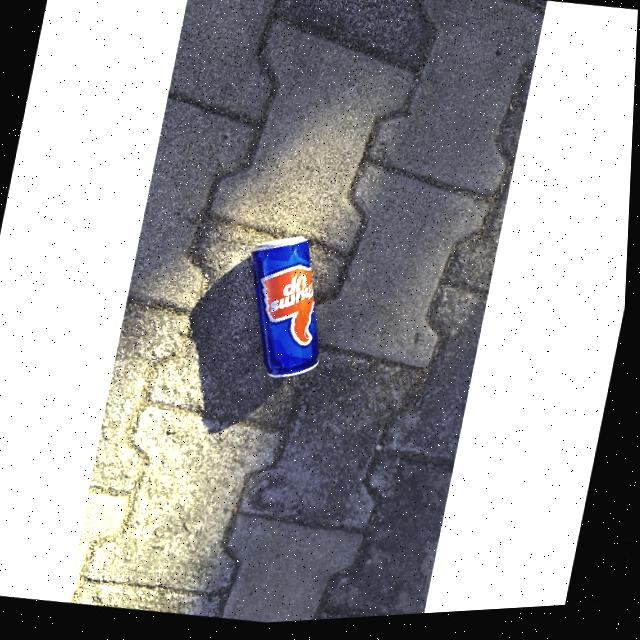Thums Up: (231, 224, 344, 393)
